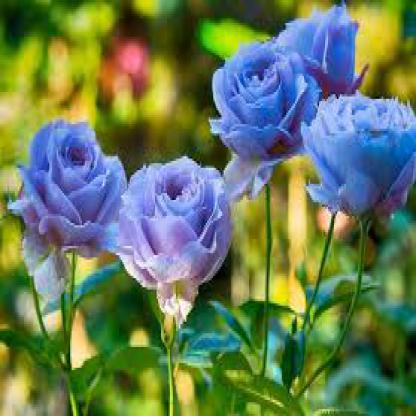Rose-Mawar: (200, 4, 416, 227), (7, 118, 234, 314)
